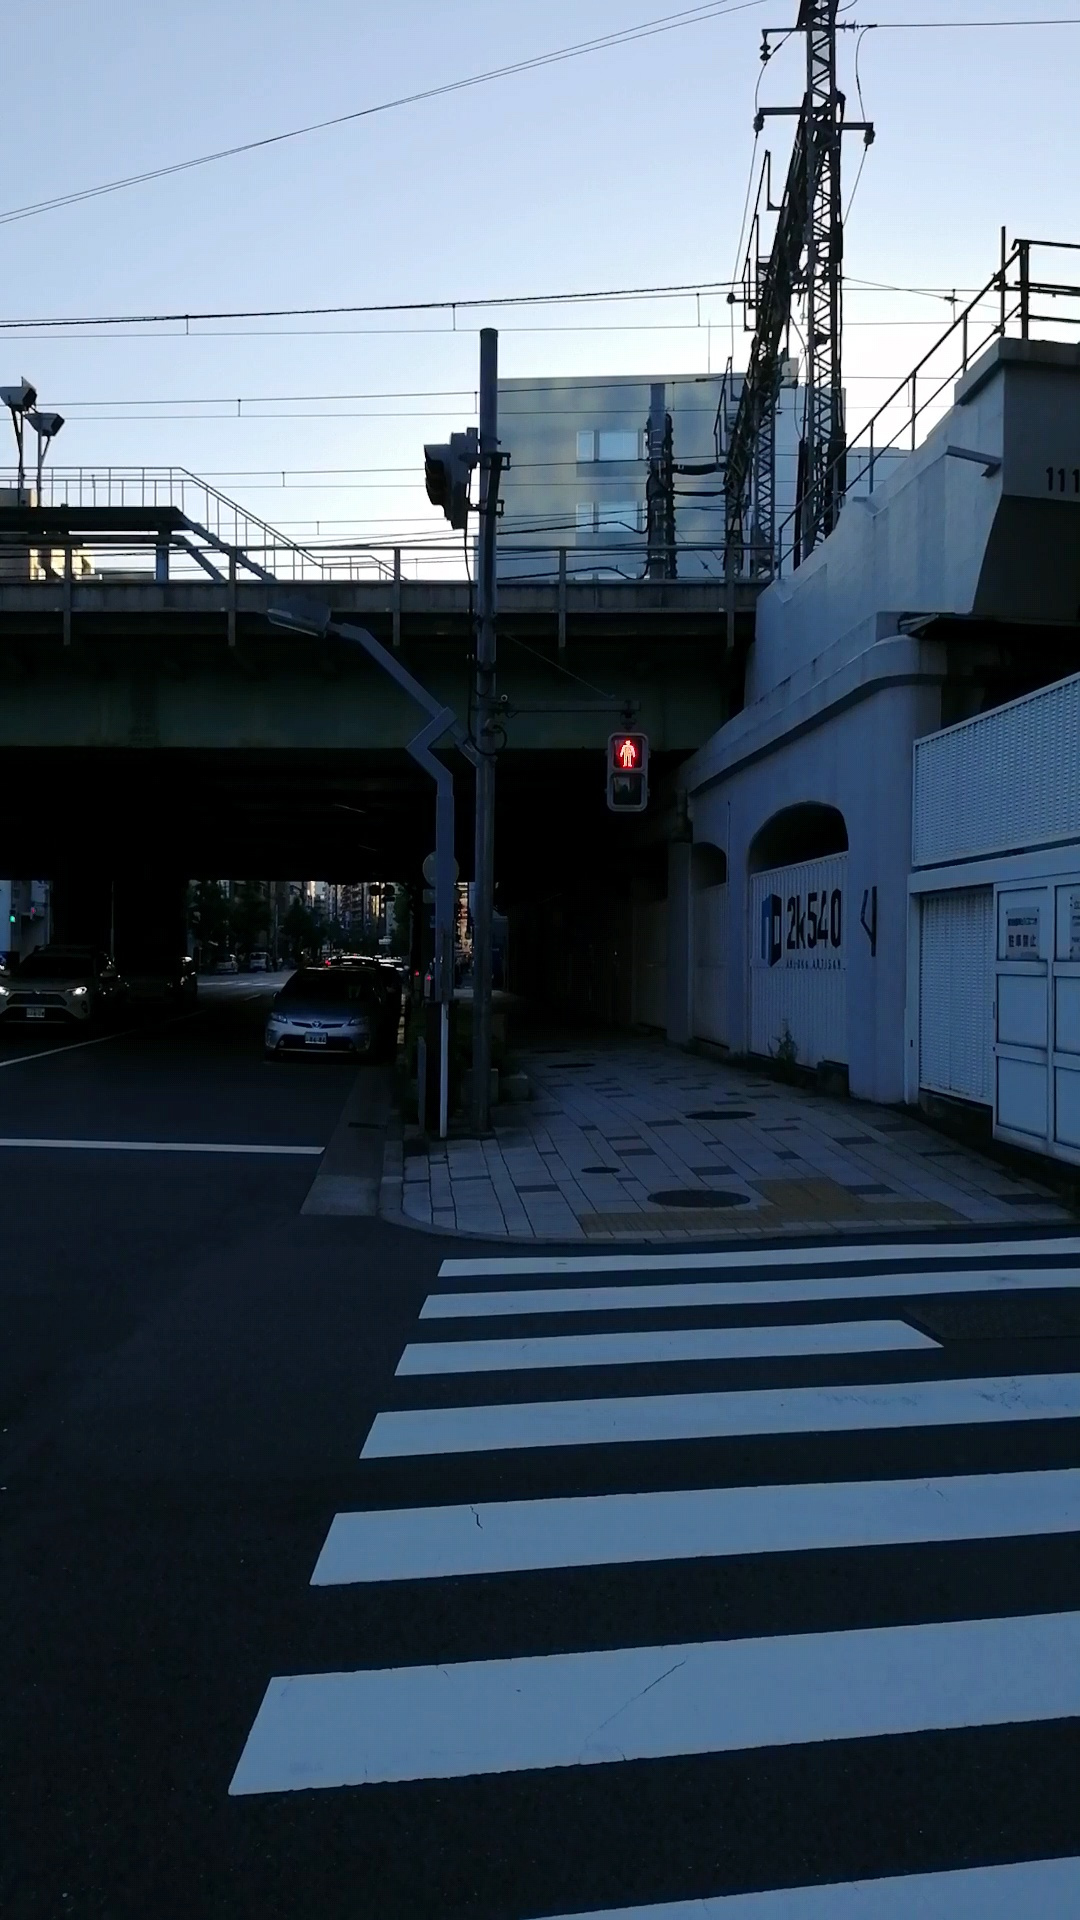red: (607, 731, 647, 812)
